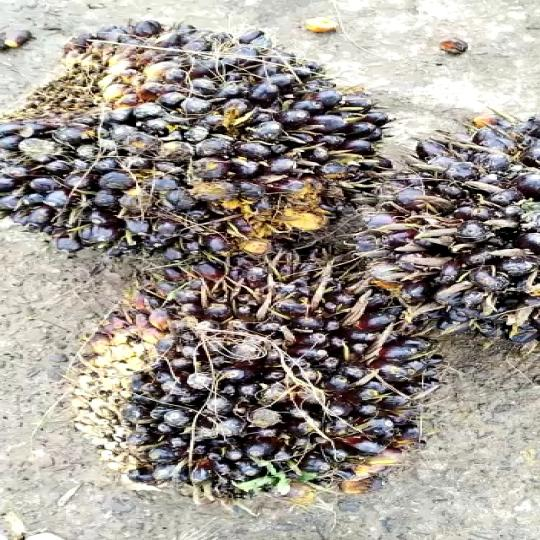mentah: (68, 225, 415, 519), (0, 29, 342, 277), (363, 115, 540, 355)
